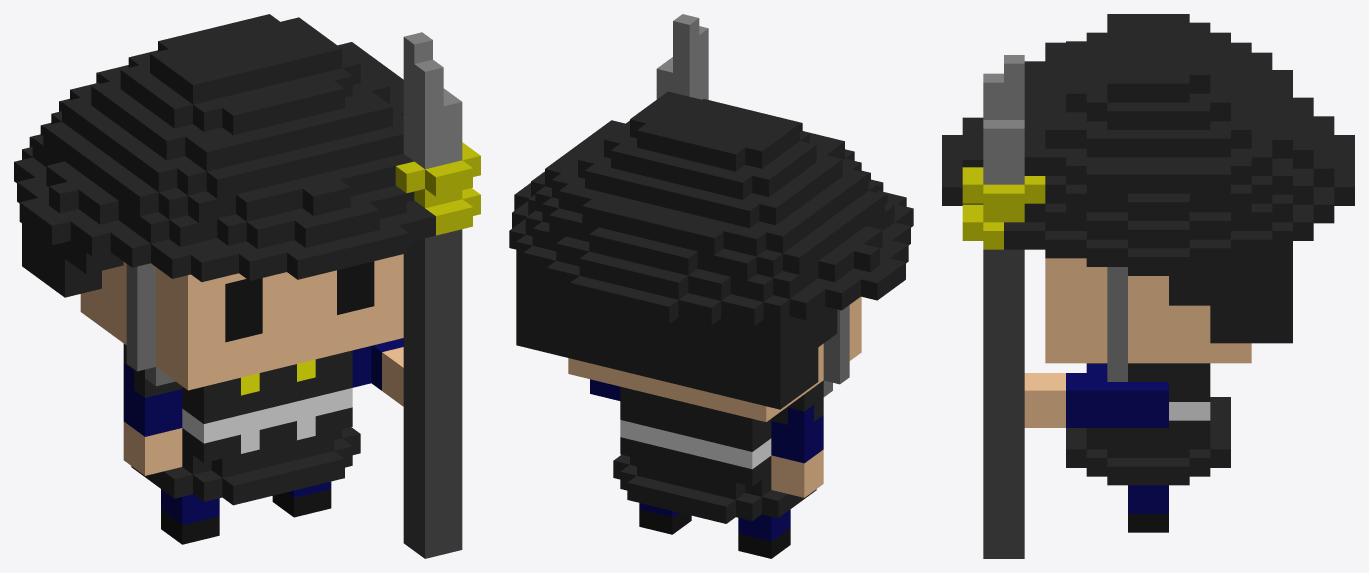
File: gatekeeper.glb
3 views of the same model, side by side, from view 1: azimuth 30°, elevation 25°; view 2: azimuth 150°, elevation 25°; view 3: azimuth 270°, elevation 25° (orthographic). The views are drawn at different scales.
Parts seen in each view (by area): view 1: Node; view 2: Node; view 3: Node.
Part boxes in pixels (x1,y1,x2,y2): Node: (14, 14, 480, 558); Node: (509, 14, 913, 558); Node: (942, 14, 1354, 558).
Size of the model in its own units: 2.2 by 2.6 by 2.
1 material, 1 textured.
